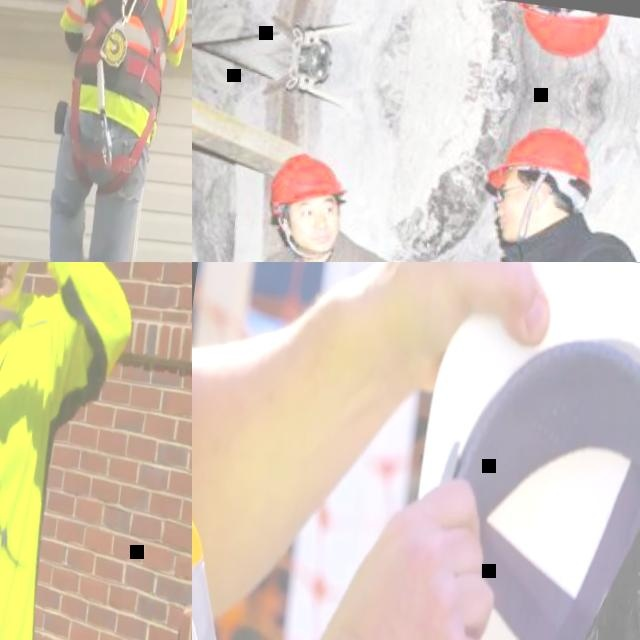Hardhat: (376, 262, 640, 640), (482, 123, 595, 196), (267, 145, 349, 219), (517, 2, 615, 62)
NO-Mask: (492, 196, 540, 238), (287, 215, 337, 250), (0, 262, 24, 309)
NO-Safety Vest: (0, 279, 70, 640)
Person: (192, 262, 557, 640), (0, 262, 151, 640), (20, 0, 192, 262), (395, 111, 640, 262), (217, 143, 447, 262)
Safety Vest: (192, 295, 279, 640), (55, 0, 192, 112)
